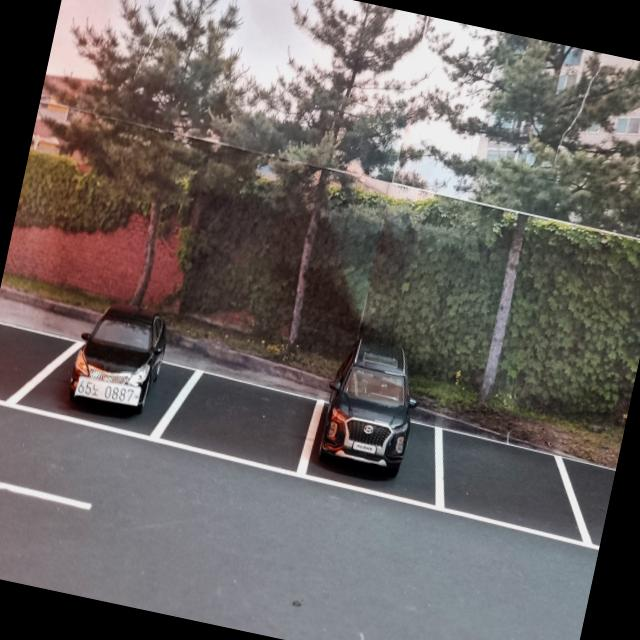car: (313, 332, 431, 477), (60, 296, 170, 418)
free: (413, 422, 617, 552), (161, 356, 326, 486), (0, 311, 76, 424)
